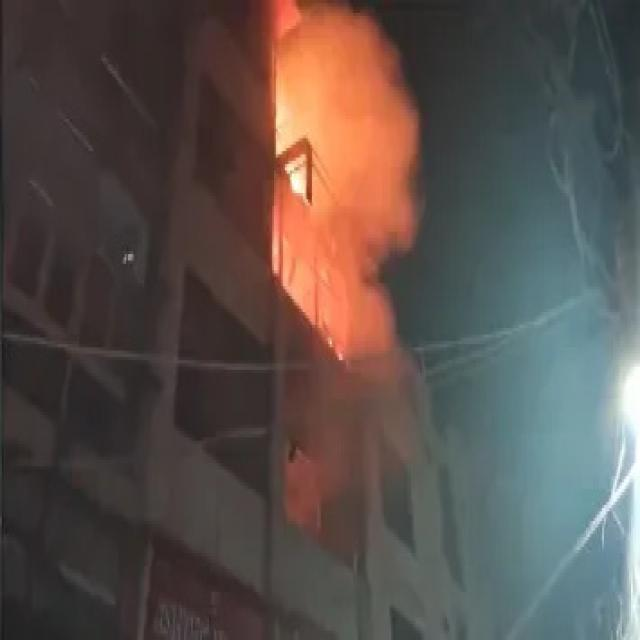fire: (274, 103, 305, 193)
